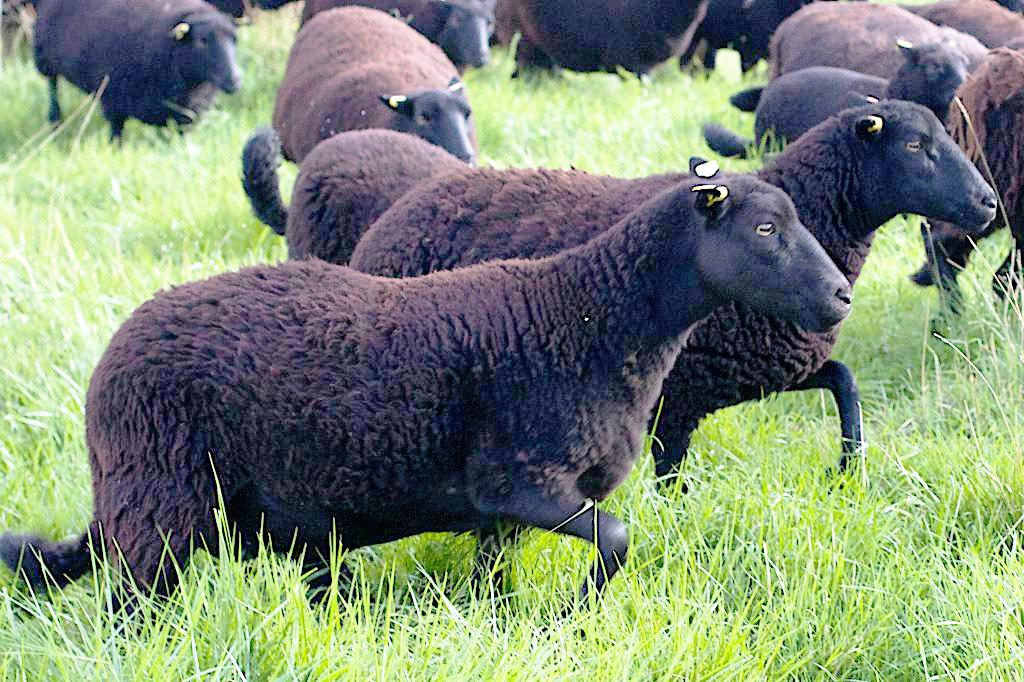Sheep: (0, 0, 1023, 648)
